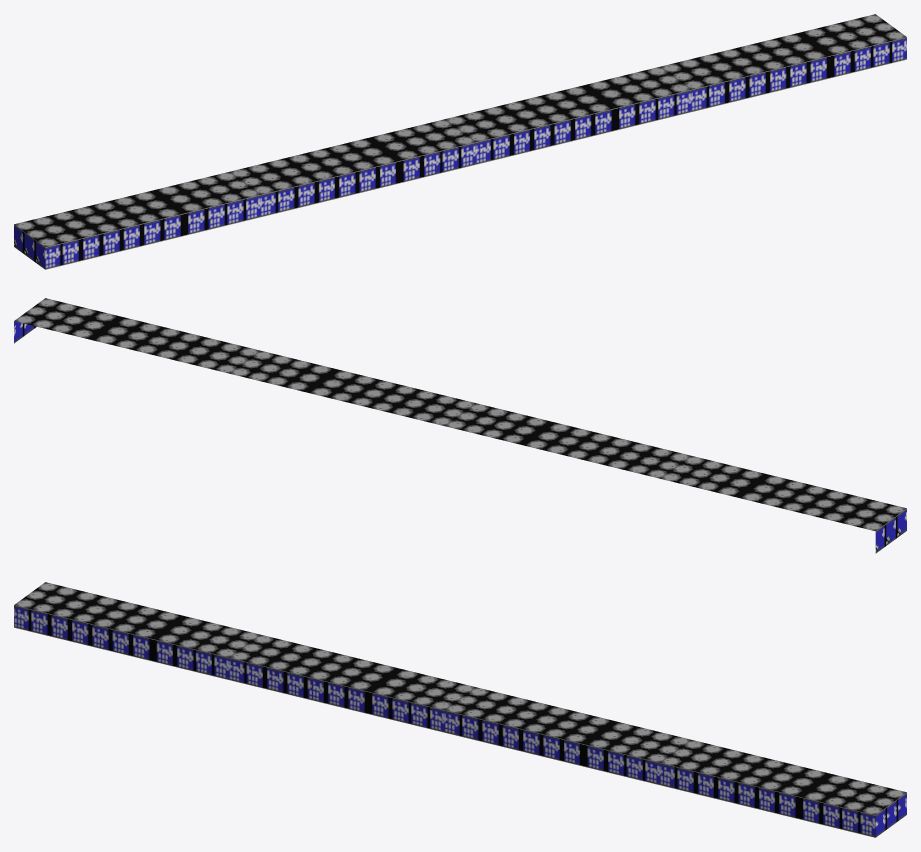
The model's file is Wares__long_blue.fbx.
3 renders of one model, top to bottom at view 1: azimuth 30°, elevation 25°; view 2: azimuth 150°, elevation 25°; view 3: azimuth 330°, elevation 25°, orthographic.
Parts seen in each view (by area): view 1: wares_long_blue; view 2: wares_long_blue; view 3: wares_long_blue.
Part boxes in pixels (left/top/right/bottom): wares_long_blue: left=14, top=14, right=906, bottom=269; wares_long_blue: left=14, top=298, right=906, bottom=553; wares_long_blue: left=14, top=582, right=906, bottom=837.
Bounding box in the file's own units: 800 × 20 × 50.55.
